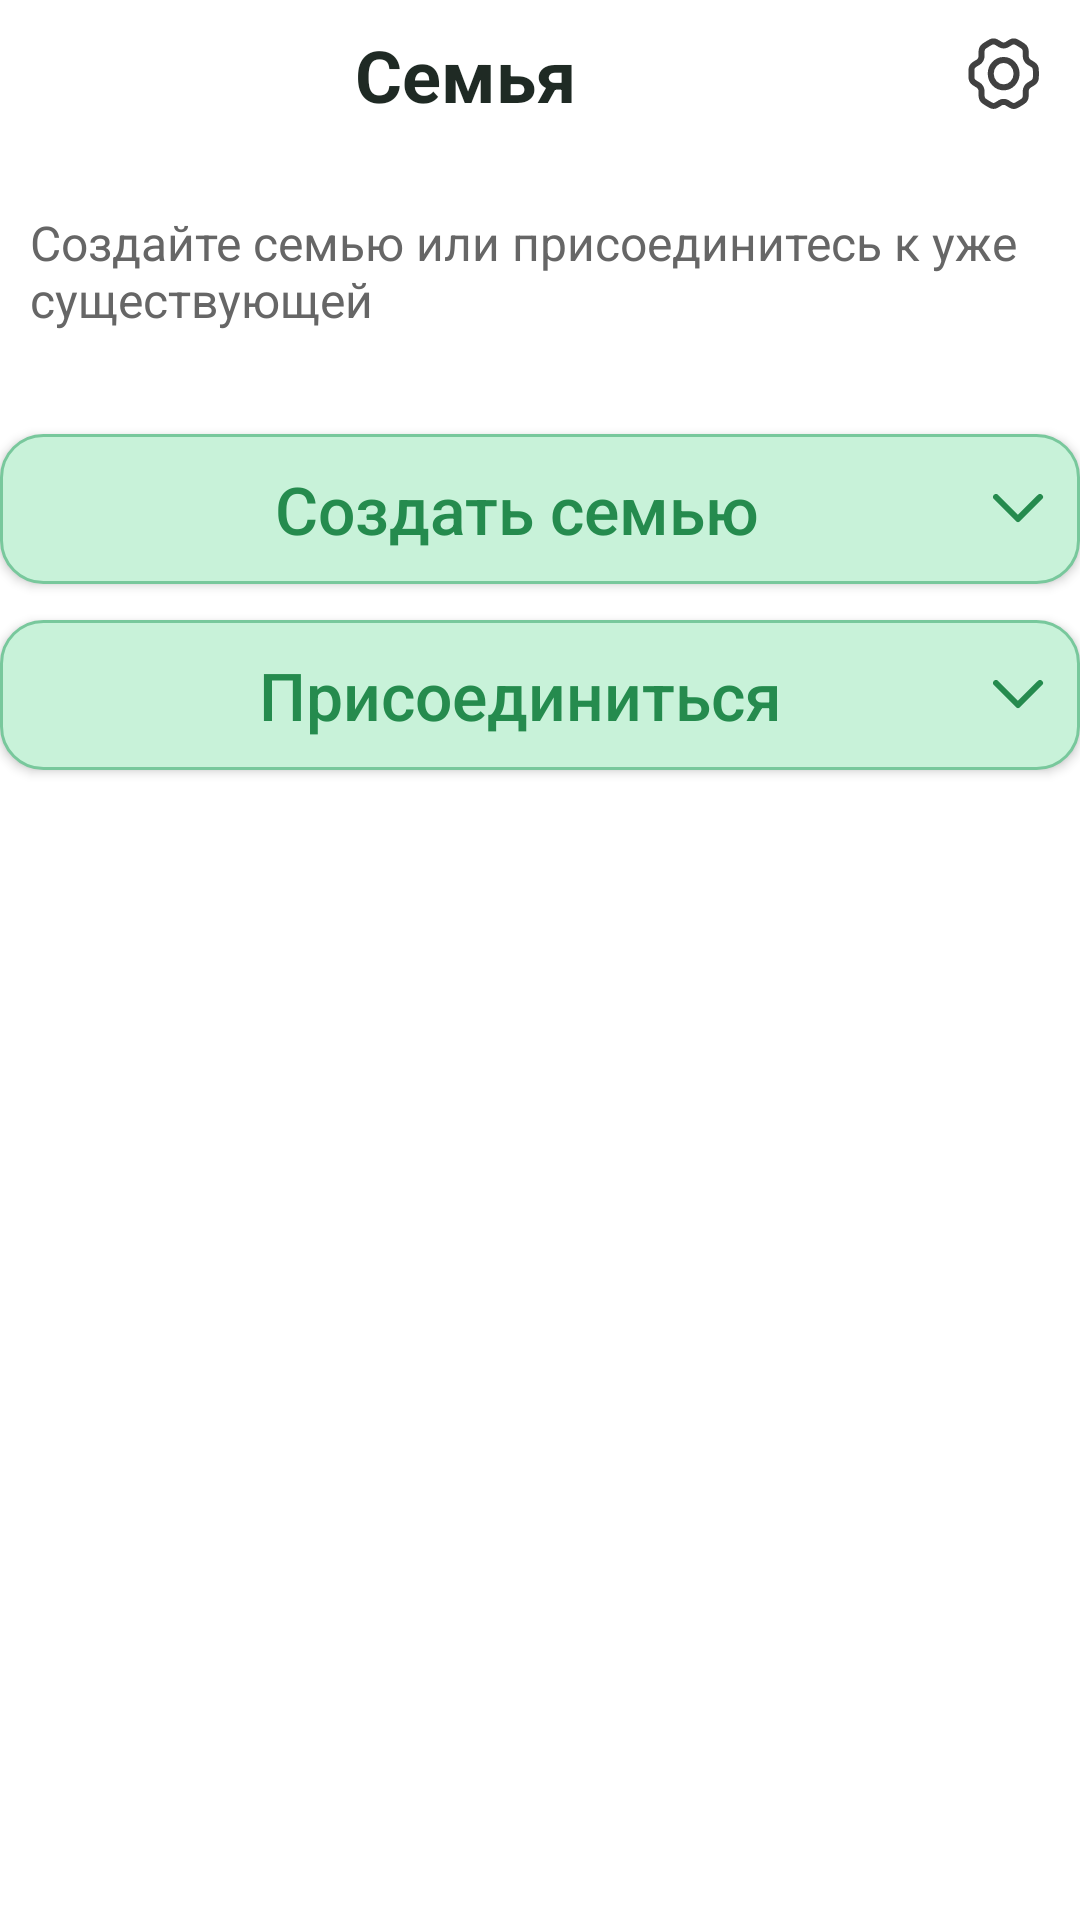

Icon bounding boxes for this 1080px x 1920px phone screenshot, format (x1, y1, x2, y2):
Настройки: (968, 38, 1039, 109)
